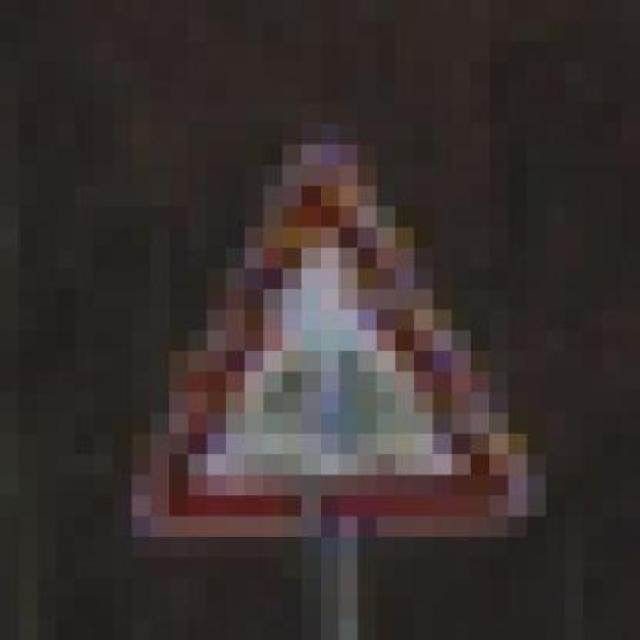CYCLE ROUTE AHEAD WARNING: (112, 124, 546, 558)
